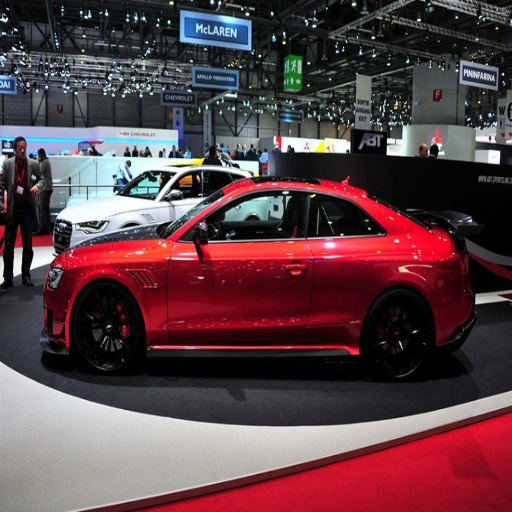_background_: (435, 288, 472, 344)
back_glass: (307, 192, 386, 327)
front_glass: (169, 189, 313, 342)
trunk: (73, 286, 140, 373), (368, 292, 429, 377)
